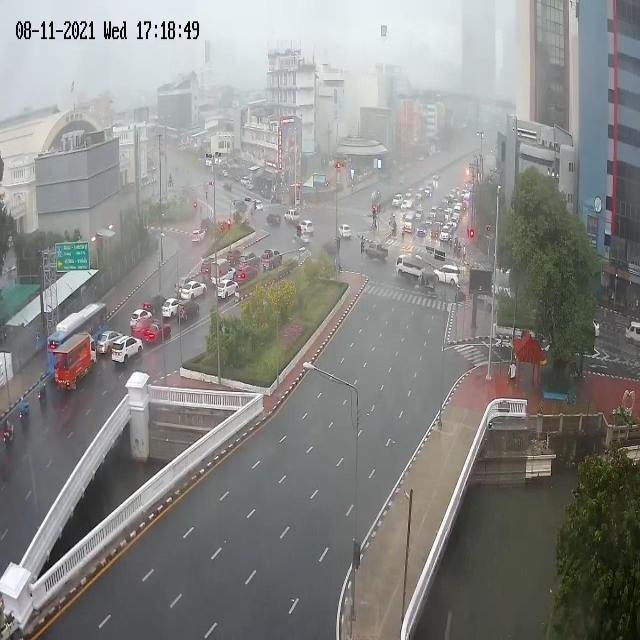Bus: (44, 301, 108, 381)
Car: (110, 335, 143, 366), (96, 330, 124, 356), (433, 263, 461, 287), (143, 321, 171, 343), (180, 280, 207, 302), (142, 294, 168, 316), (131, 317, 157, 338), (176, 298, 200, 320), (216, 279, 239, 301), (260, 248, 282, 270), (235, 264, 258, 285), (200, 255, 217, 282), (162, 298, 182, 320), (130, 308, 152, 328), (238, 251, 259, 271), (174, 276, 195, 296), (218, 268, 237, 286), (191, 228, 208, 245), (298, 219, 314, 235), (284, 208, 300, 224), (294, 229, 310, 245), (338, 223, 352, 240), (266, 212, 281, 226), (440, 225, 451, 242), (392, 193, 403, 208), (435, 212, 446, 226), (592, 319, 600, 337), (416, 224, 427, 237), (430, 224, 439, 239), (271, 192, 281, 205), (240, 176, 251, 187), (253, 200, 263, 212), (415, 208, 424, 221), (450, 216, 459, 229), (430, 205, 438, 219), (424, 185, 432, 198), (426, 214, 434, 226), (244, 180, 253, 190), (406, 188, 414, 199), (401, 199, 408, 211), (416, 190, 423, 201), (432, 172, 440, 181), (221, 169, 228, 178)
Cycle: (4, 424, 15, 448), (37, 384, 47, 404), (20, 403, 29, 423), (453, 241, 458, 253), (457, 245, 461, 258)
Truck: (53, 331, 97, 390), (396, 254, 425, 282), (211, 257, 236, 285), (364, 240, 388, 262)
Van: (624, 320, 640, 344), (403, 210, 417, 233), (452, 202, 463, 220)
